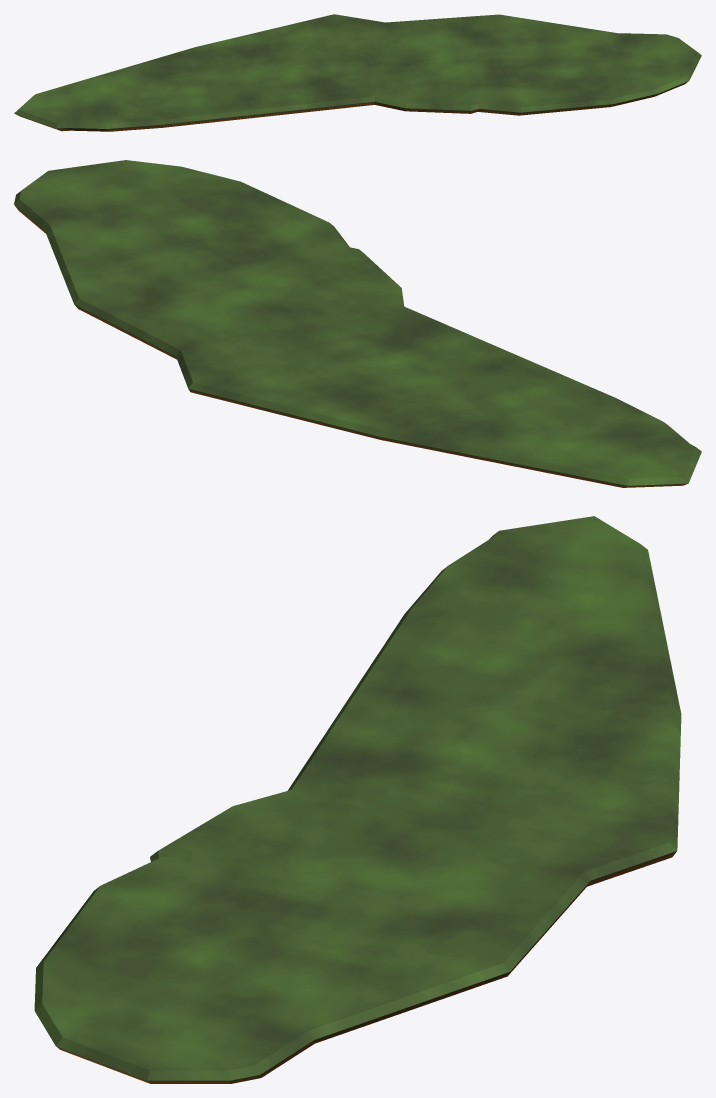
Rendered from T7_Terreno_Lvl1_T.fbx.
The picture shows the model from 3 angles, top to bottom: view 1: azimuth 30°, elevation 25°; view 2: azimuth 150°, elevation 25°; view 3: azimuth 270°, elevation 25°; orthographic projection. The views are drawn at different scales.
Parts seen in each view (by area): view 1: T7_modelosBlockout_nivel1; view 2: T7_modelosBlockout_nivel1; view 3: T7_modelosBlockout_nivel1.
Part boxes in pixels (<box>): T7_modelosBlockout_nivel1: <box>14,14,701,131</box>; T7_modelosBlockout_nivel1: <box>14,160,701,487</box>; T7_modelosBlockout_nivel1: <box>34,516,681,1083</box>.
Size of the model in its own units: 17449 by 200 by 8493.
